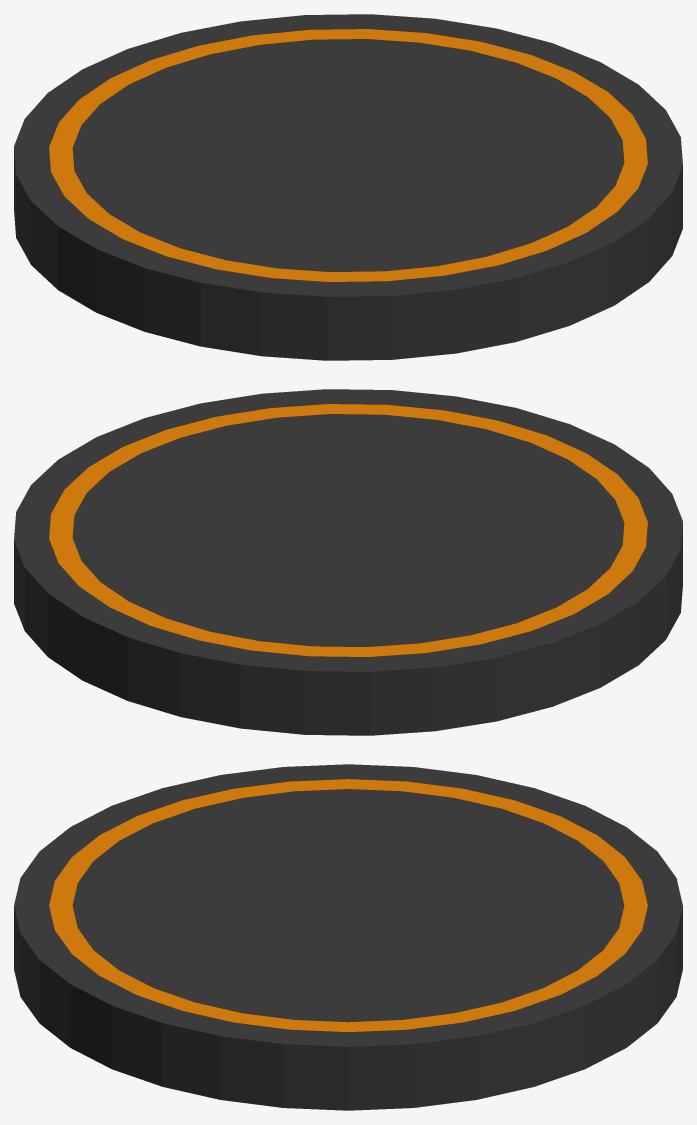
The model's file is Coin.fbx.
The picture shows the model from 3 angles, top to bottom: view 1: azimuth 30°, elevation 25°; view 2: azimuth 150°, elevation 25°; view 3: azimuth 270°, elevation 25°; orthographic projection.
Parts seen in each view (by area): view 1: Coin; view 2: Coin; view 3: Coin.
Part boxes in pixels (bbox=[...]): Coin: bbox=[14, 14, 682, 360]; Coin: bbox=[14, 389, 682, 735]; Coin: bbox=[14, 764, 682, 1110].
Bounding box in the file's own units: 200 × 21.03 × 200.
